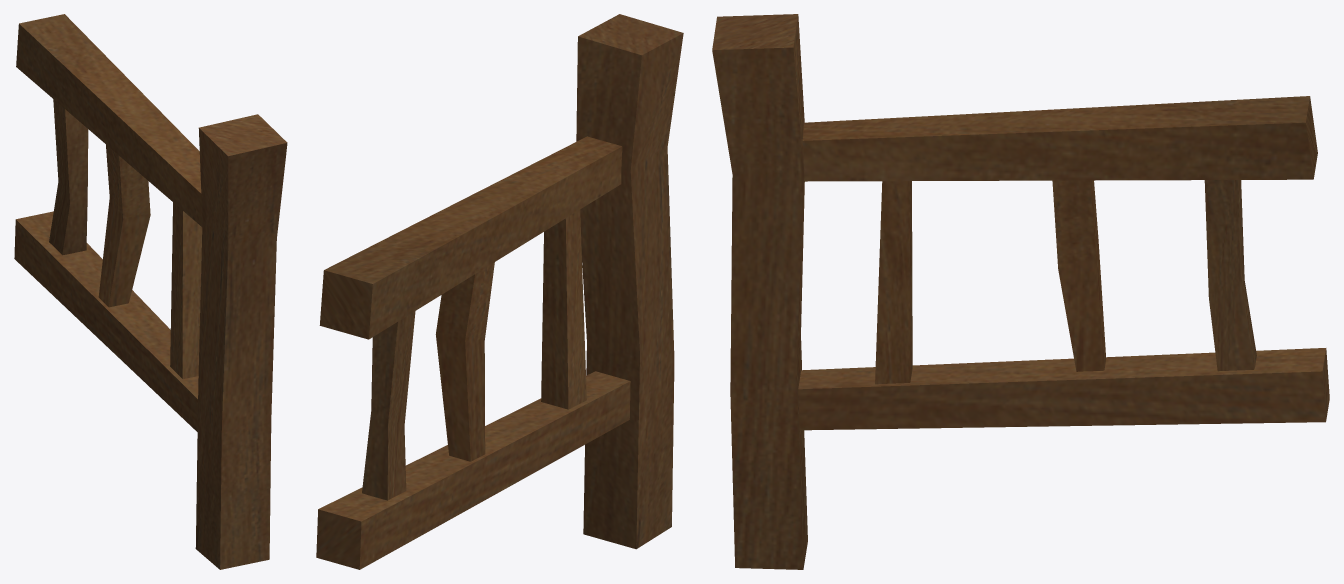
The picture shows the model from 3 angles, left to right: view 1: azimuth 30°, elevation 25°; view 2: azimuth 150°, elevation 25°; view 3: azimuth 270°, elevation 25°; orthographic projection. The views are drawn at different scales.
Visible parts, largest first — view 1: polySurface21; view 2: polySurface21; view 3: polySurface21.
Part boxes in pixels (x1=…): polySurface21: x1=14, y1=14, x2=287, y2=569; polySurface21: x1=316, y1=14, x2=683, y2=569; polySurface21: x1=712, y1=14, x2=1329, y2=569.
Bounding box in the file's own units: 65.77 × 360 × 382.
